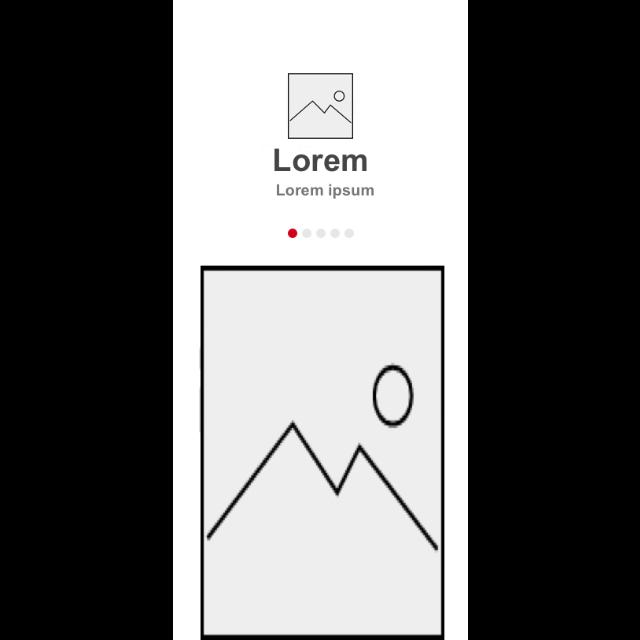image: (201, 266, 445, 640), (287, 73, 353, 139)
pageindicator: (288, 228, 354, 238)
text: (274, 148, 366, 172), (276, 184, 374, 200)
